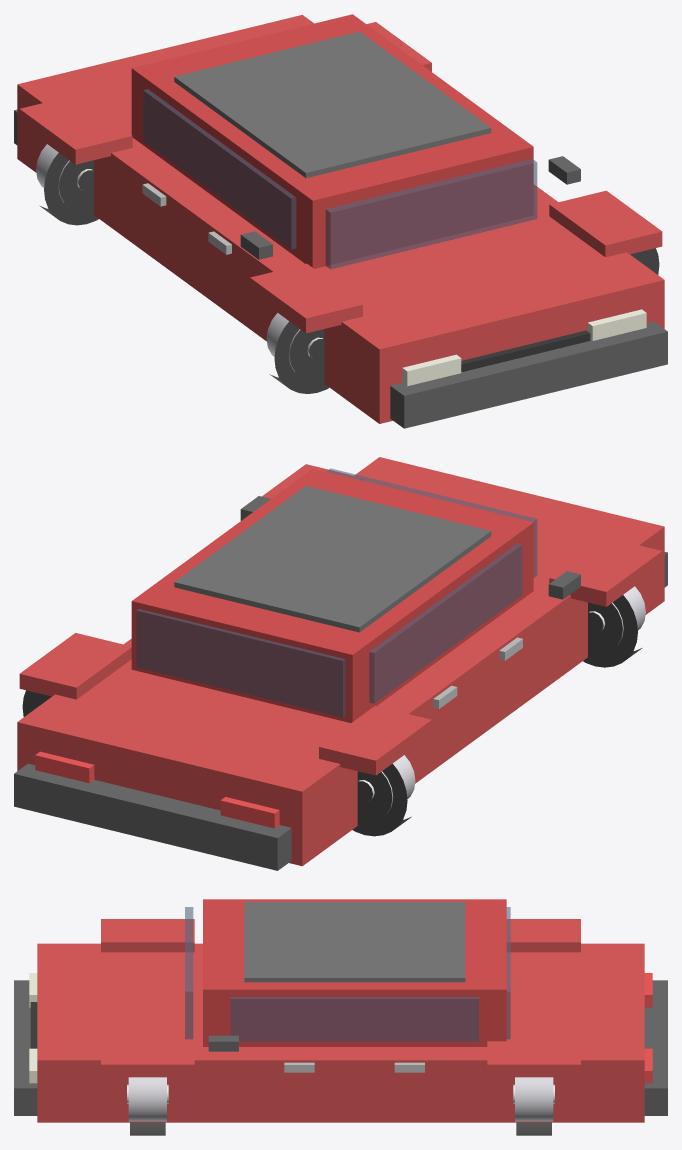
The model's file is car-from-manus.glb.
The picture shows the model from 3 angles, top to bottom: view 1: azimuth 30°, elevation 25°; view 2: azimuth 150°, elevation 25°; view 3: azimuth 270°, elevation 25°; orthographic projection. The views are drawn at different scales.
Parts seen in each view (by area): view 1: Car; view 2: Car; view 3: Car.
Part boxes in pixels (x1,y1,x2,y2): Car: [14, 14, 667, 428]; Car: [14, 457, 667, 870]; Car: [14, 899, 667, 1135].
Bounding box in the file's own units: 2.7 × 1.04 × 4.74.
